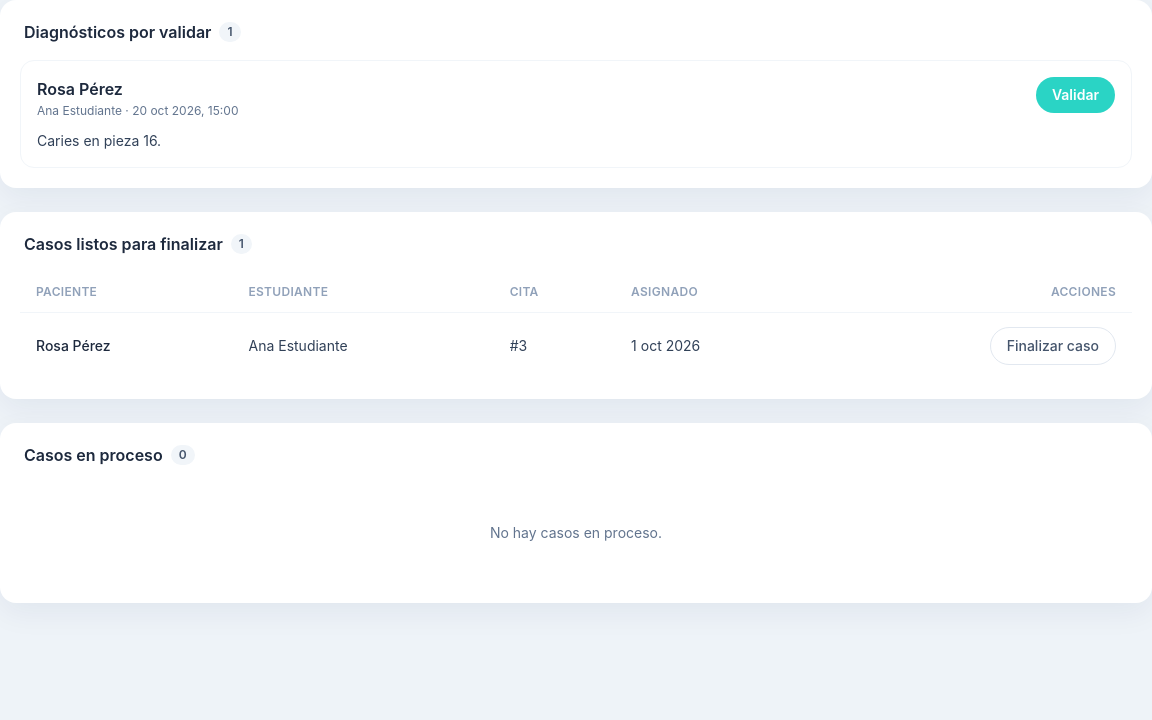
it: Supervision › finaliza un caso tras confirmar
Click the button "Finalizar caso": (1053, 346) [990,327,1116,365]
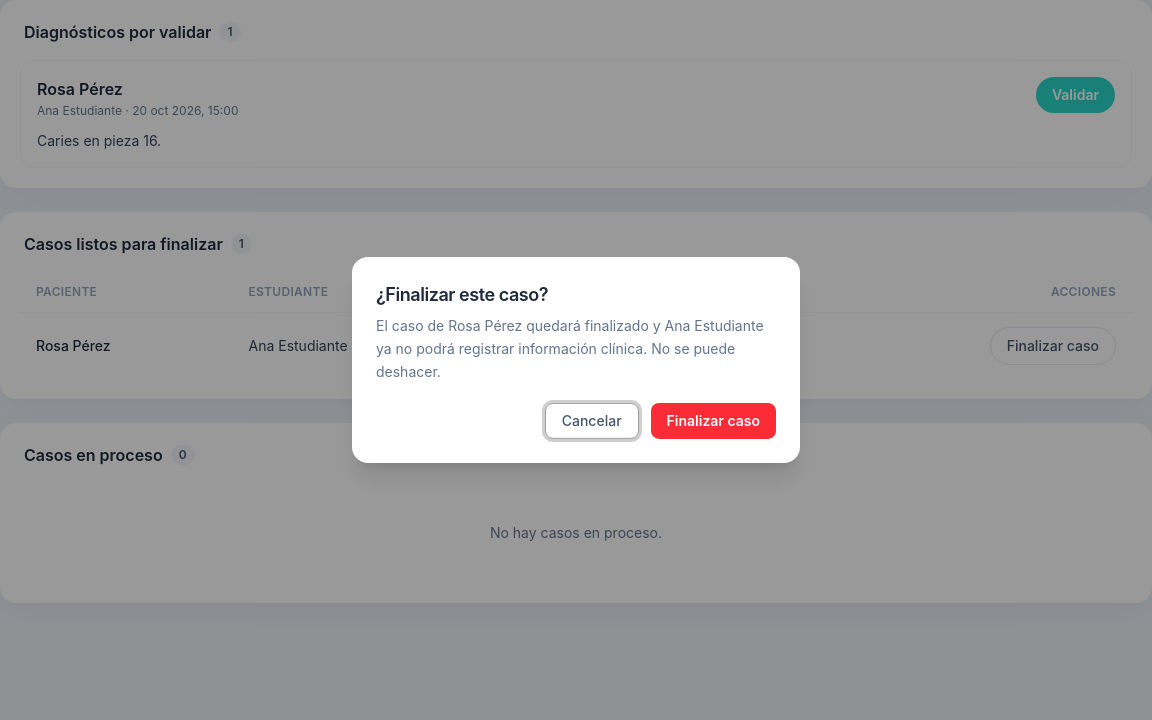
Check: the text "Rosa Pérez" is shown, box [376,317,764,379]
Click the button "Finalizar caso": (713, 421) [651,403,776,439]
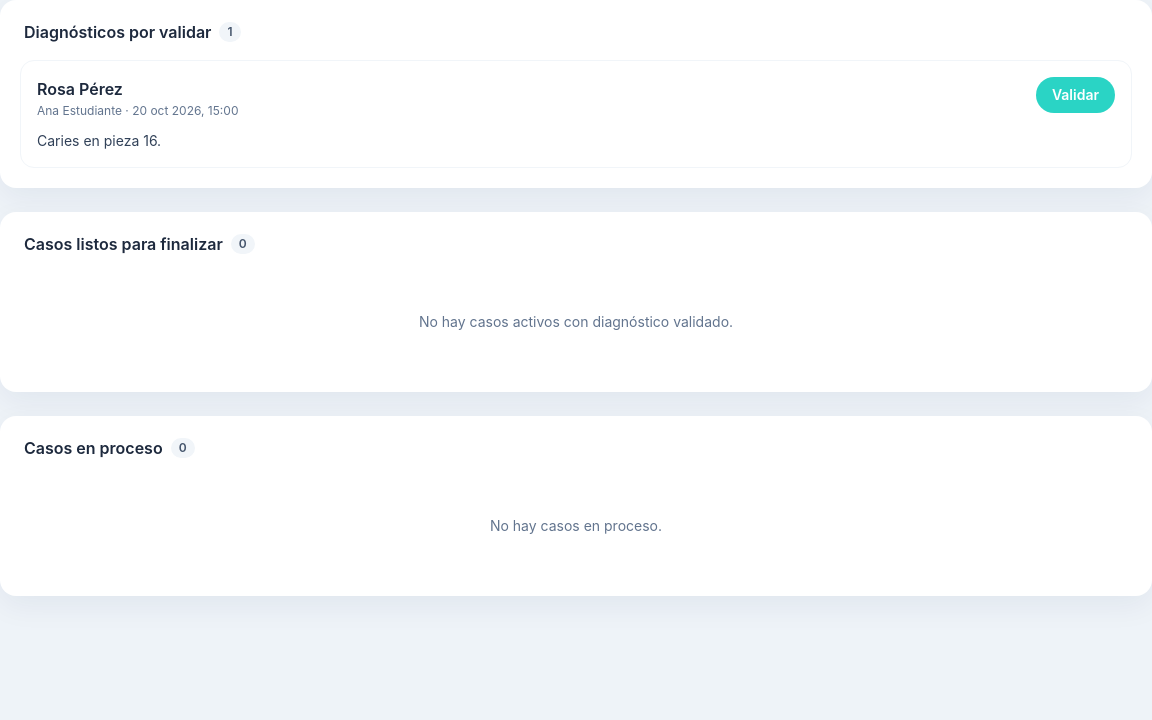
Check: the text "No hay casos activos con diagnóstico validado." is shown, box [419,313,733,330]
